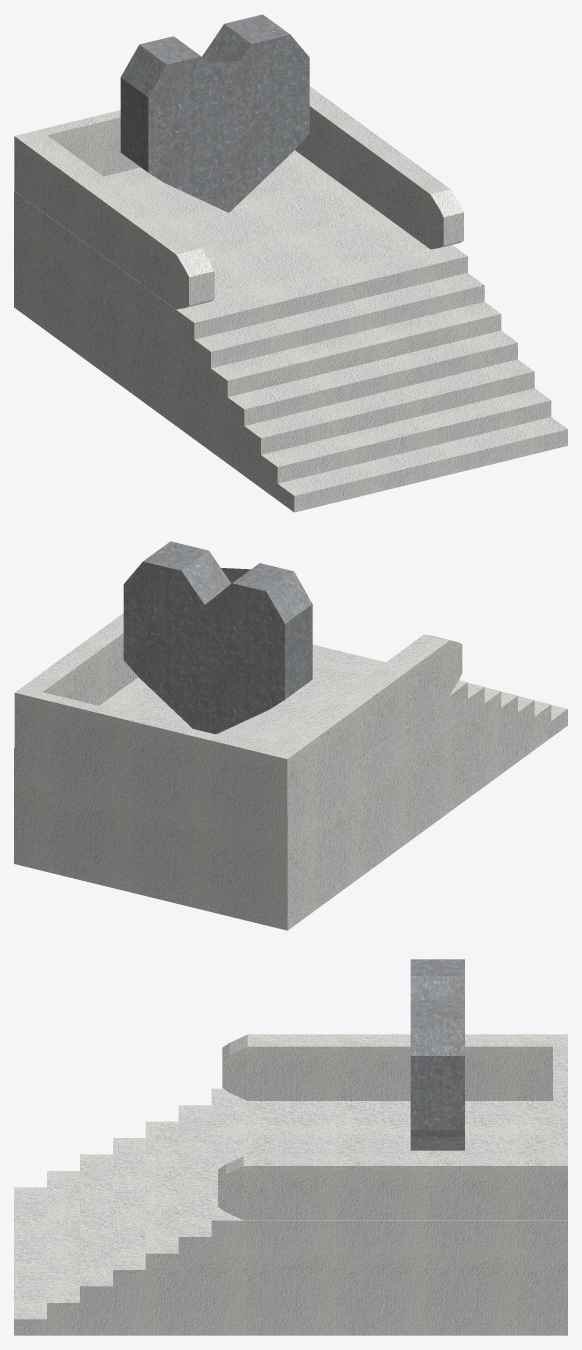
Rendered from BLOCKYGON_HEART-STAIRS.fbx.
3 renders of one model, top to bottom at view 1: azimuth 30°, elevation 25°; view 2: azimuth 150°, elevation 25°; view 3: azimuth 270°, elevation 25°, orthographic.
Parts seen in each view (by area): view 1: BLOCKYGON_HEART_STAIRS; view 2: BLOCKYGON_HEART_STAIRS; view 3: BLOCKYGON_HEART_STAIRS.
Part boxes in pixels (x1,y1,x2,y2): BLOCKYGON_HEART_STAIRS: (14, 14, 567, 512); BLOCKYGON_HEART_STAIRS: (14, 541, 567, 930); BLOCKYGON_HEART_STAIRS: (14, 959, 567, 1335).
Size of the model in its own units: 345 by 341 by 612.
Materials: 2 (2 with a texture image).
